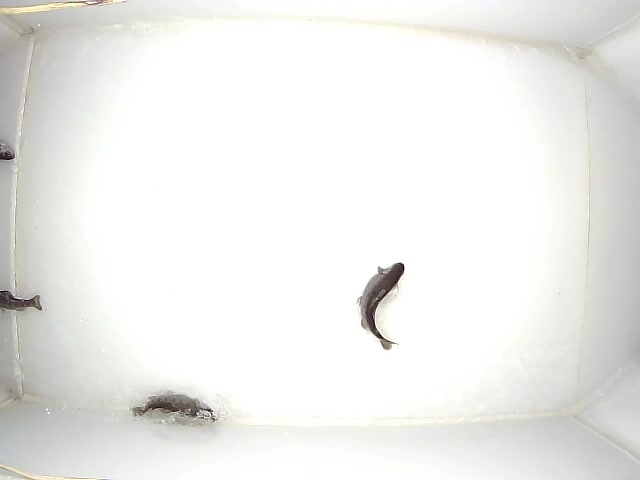fish: (356, 262, 405, 351), (130, 390, 218, 422), (1, 291, 43, 311)
